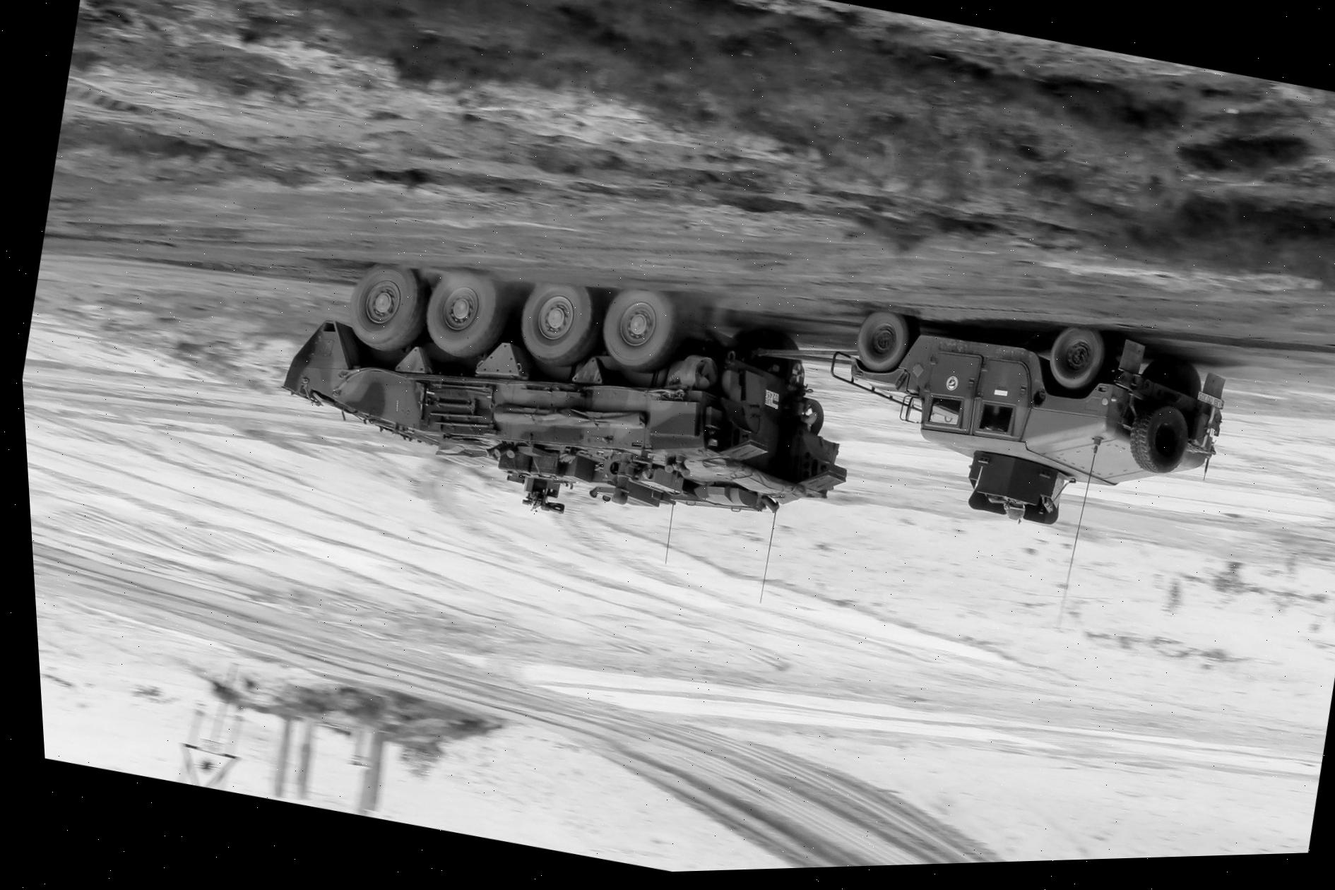armored_car: (249, 207, 882, 584), (805, 270, 1248, 562)
